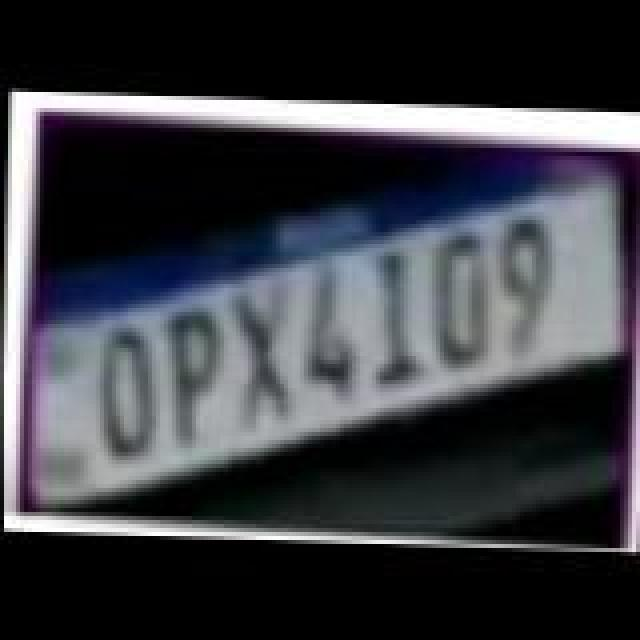4: (290, 262, 362, 402)
9: (492, 216, 564, 360)
D: (424, 226, 500, 374)
I: (360, 244, 428, 392)
O: (90, 322, 166, 466)
P: (156, 304, 228, 448)
X: (222, 286, 298, 430)
